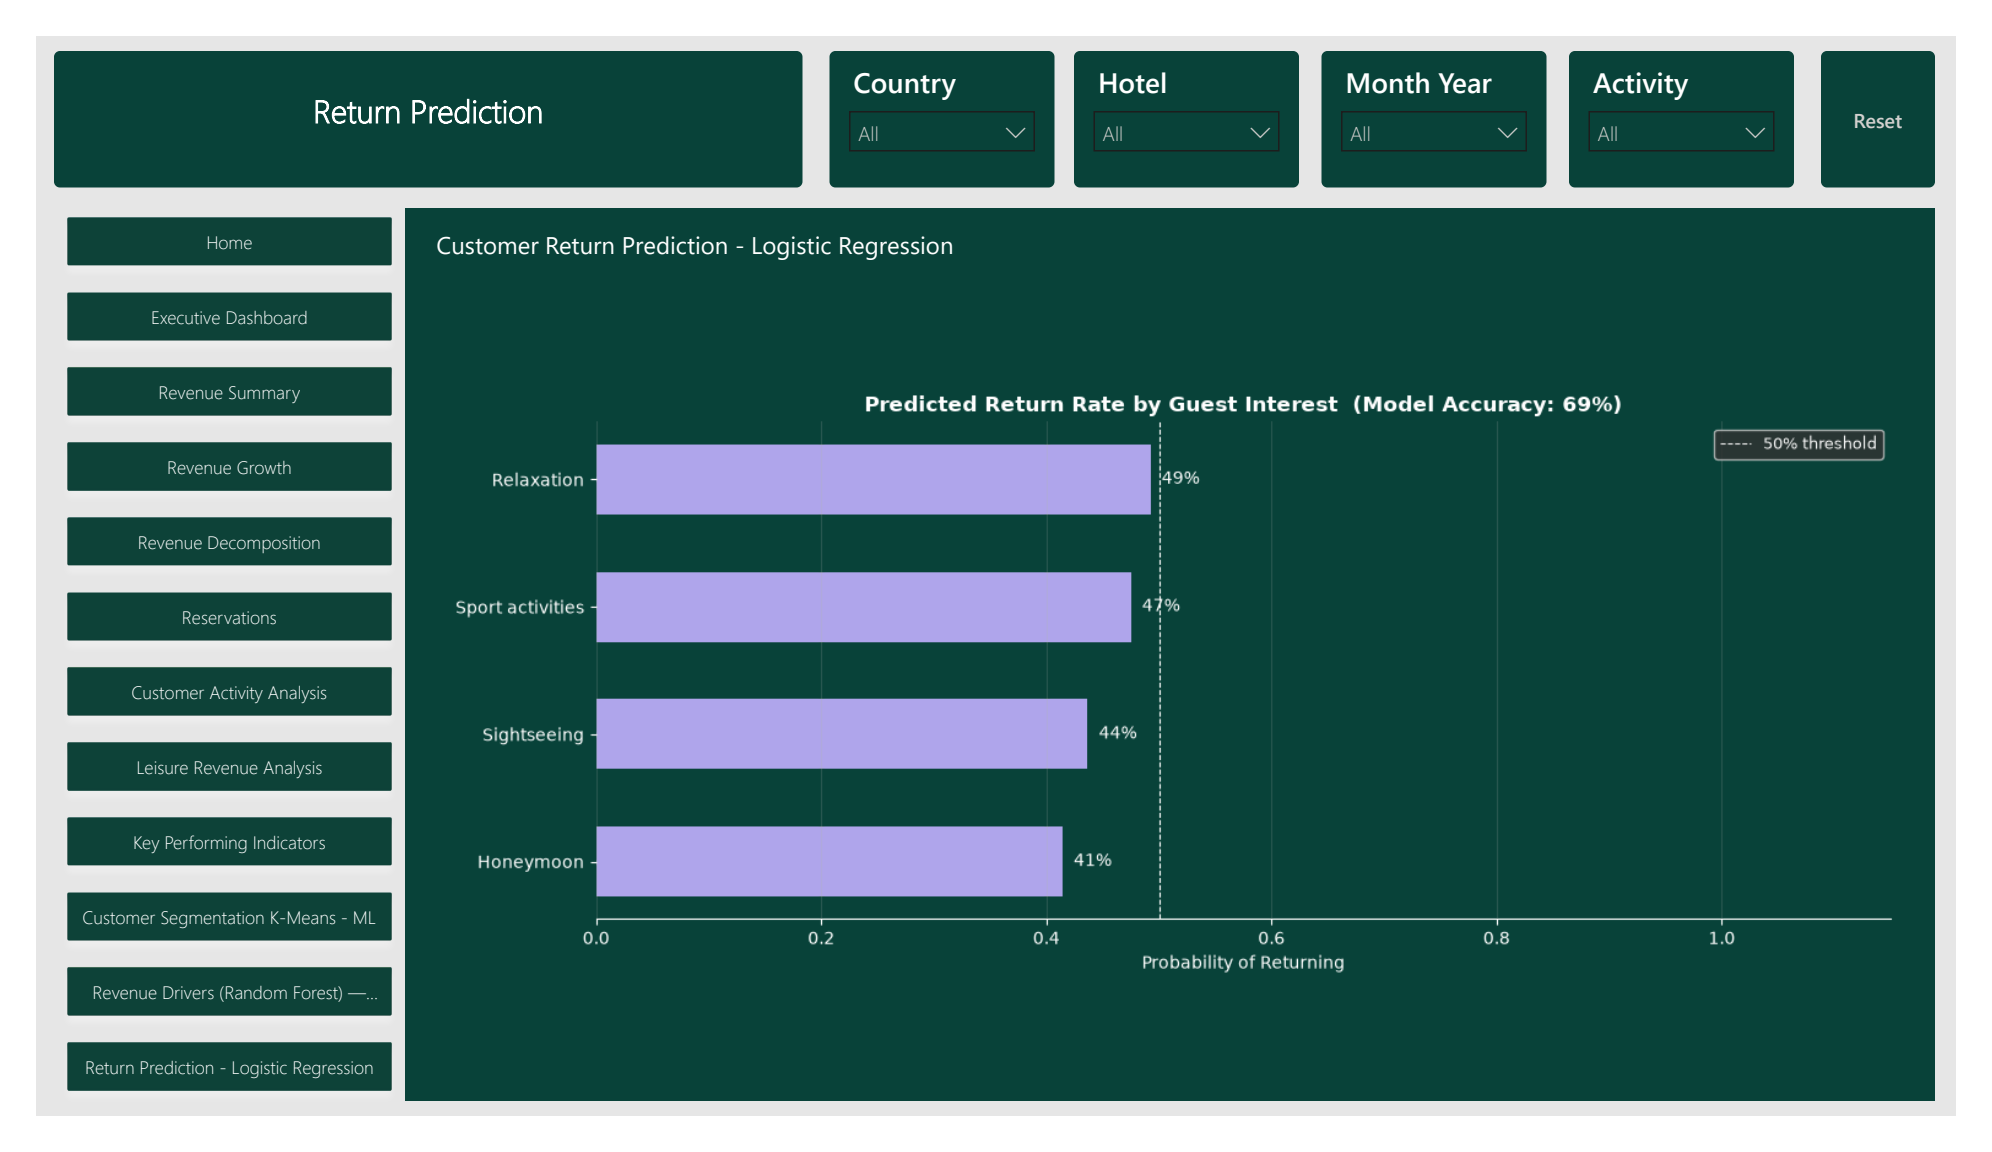

The dashboard page shown, as its layout file describes it:
{"tool":"powerbi","page":{"name":"Return Prediction - Logistic Regression","canvas":[1280,720],"ordinal":11},"visuals":[{"type":"shape","box":[246,114.9,1019.9,595.2],"z":0},{"type":"textbox","box":[11.7,9.9,499.2,90.7],"z":1000},{"type":"slicer","fields":{"Values":["Country.Country"]},"box":[528.8,9.9,150,90.7],"z":2000},{"type":"pageNavigator","box":[11.7,112.2,234.3,607.8],"z":3000},{"type":"slicer","fields":{"Values":["Hotel Visited.Hotel"]},"box":[692.2,9.9,150,90.7],"z":4000},{"type":"slicer","fields":{"Values":["Calender.MonthYear"]},"box":[857.4,9.9,150,90.7],"z":5000},{"type":"slicer","fields":{"Values":["Primary interest.Primary Interest"]},"box":[1021.6,9.9,150,90.7],"z":6000},{"type":"actionButton","box":[1189.5,9.9,76.3,90.7],"z":7000},{"type":"pythonVisual","title":"Customer Return Prediction - Logistic Regression","fields":{"Values":["Customer.Customer Status","Age.Age Group","Gender.Gender","Primary interest.Primary Interest","Source.Source","Reservation type.Reservation Type","Purchased spa visit.Purchased Spa Visit","Rented sports equipment.Rented Sports Equipment","Data.Revenue","Hotel Visited.Hotel","Country.Country"]},"box":[261.6,128.4,990.9,575.6],"z":7001}]}

Visuals, with their boxes in screenshot pixels (x1, y1, x2, y2), scaled from the page's 1280x720 canvas onto the 1992x1152 screenshot:
shape: l=383, t=184, r=1970, b=1136
textbox: l=18, t=16, r=795, b=161
slicer - Country.Country: l=823, t=16, r=1056, b=161
pageNavigator: l=18, t=180, r=383, b=1151
slicer - Hotel Visited.Hotel: l=1077, t=16, r=1311, b=161
slicer - Calender.MonthYear: l=1334, t=16, r=1568, b=161
slicer - Primary interest.Primary Interest: l=1590, t=16, r=1823, b=161
actionButton: l=1851, t=16, r=1970, b=161
"Customer Return Prediction - Logistic Regression" pythonVisual: l=407, t=205, r=1949, b=1126
